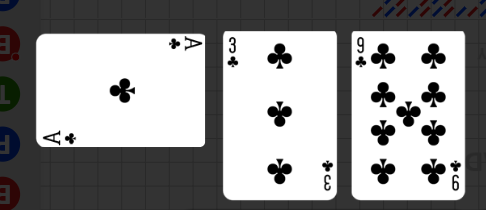3C: (226, 35, 241, 70)
9C: (354, 35, 369, 70)
AC: (41, 128, 79, 145)
